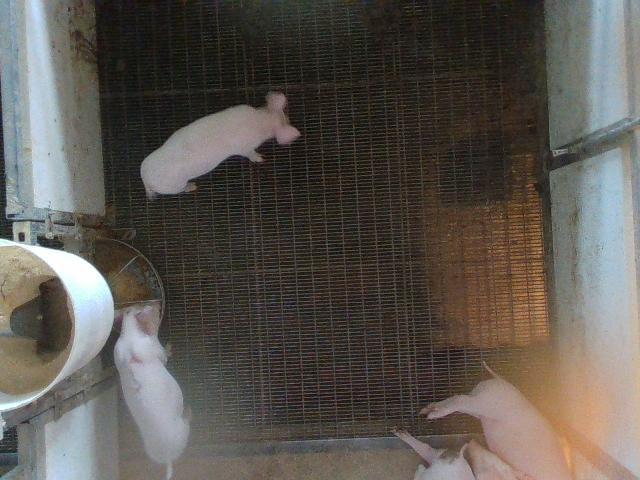pig-5: (114, 301, 189, 478)
